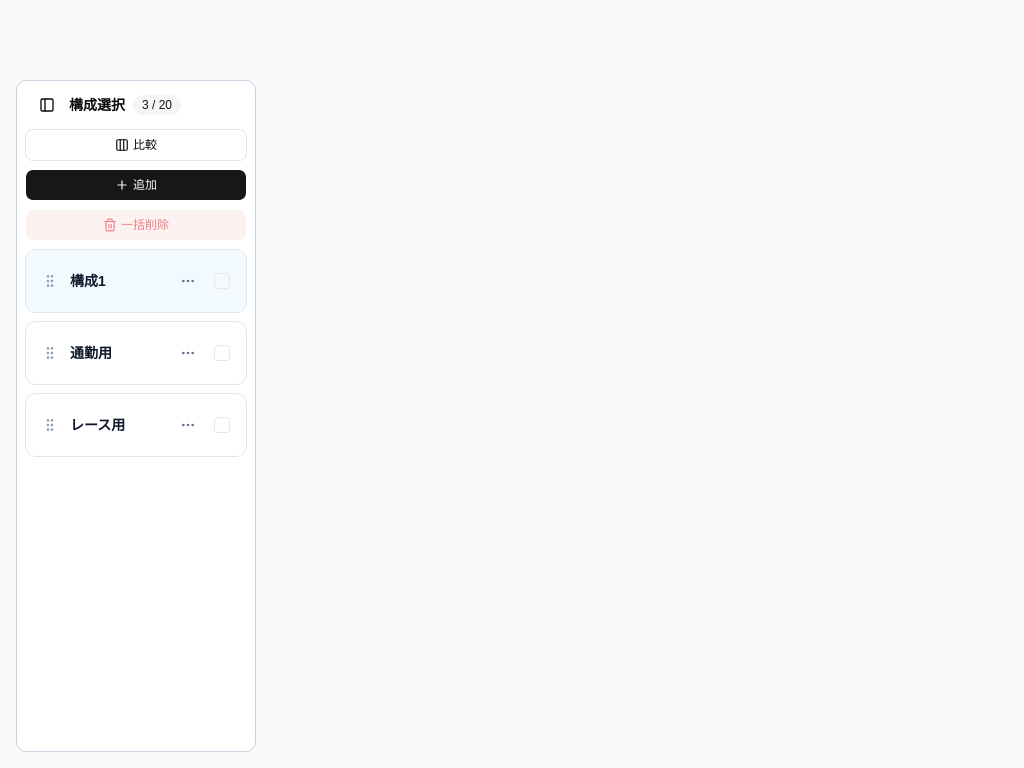
Test: ConfigList（未ログイン時） › 一括削除の確認に選択した構成名をすべて出す
The image size is (1024, 768).
Step 1. Click the checkbox named "構成1を削除対象に選択" → (222, 281), box left=214, top=273, right=230, bottom=289
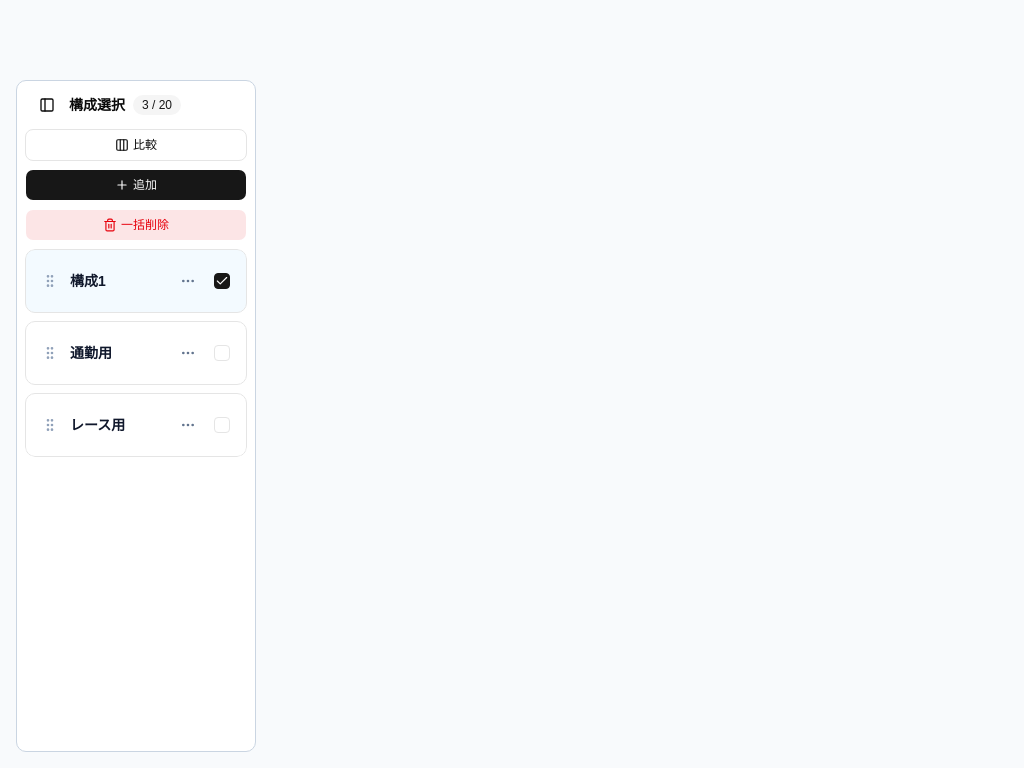
Step 2. Click the checkbox named "通勤用を削除対象に選択" → (222, 353), box left=214, top=345, right=230, bottom=361
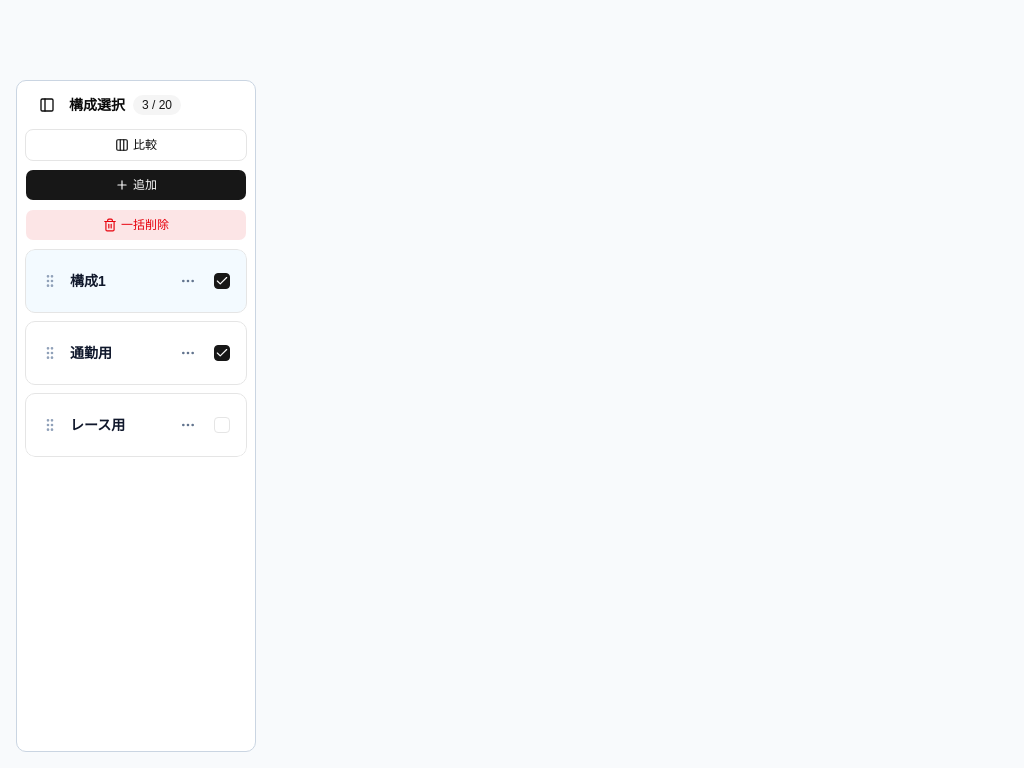
Step 3. Click the checkbox named "レース用を削除対象に選択" → (222, 425), box left=214, top=417, right=230, bottom=433
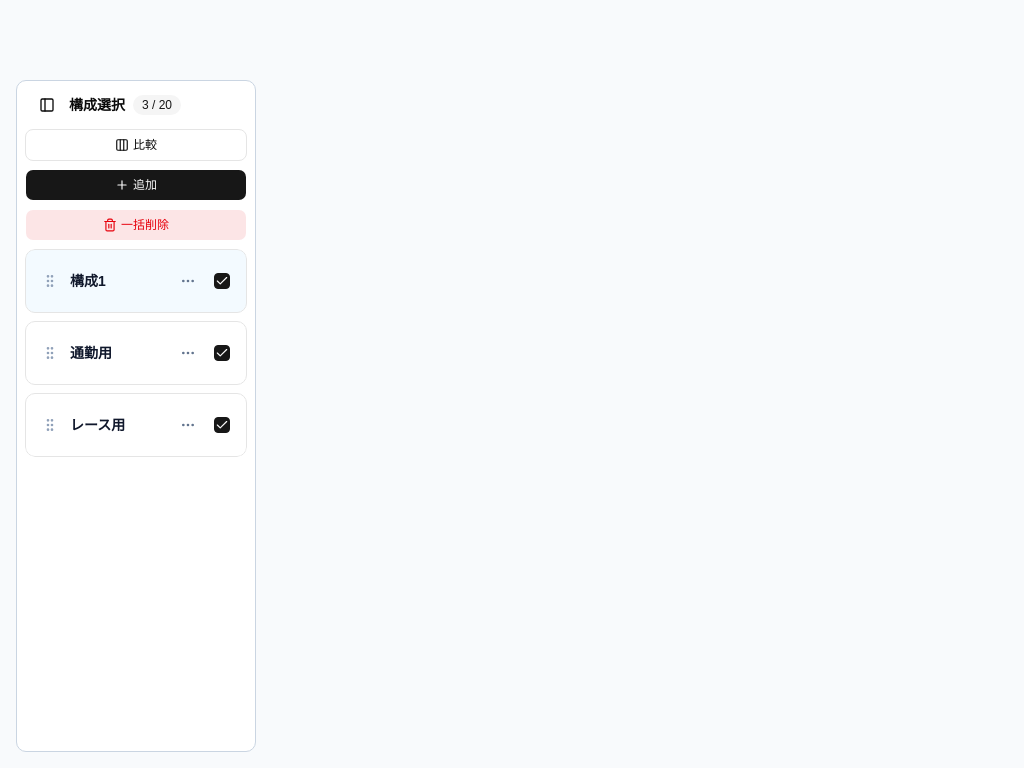
Step 4. Click the button "一括削除" → (136, 225), box left=25, top=209, right=247, bottom=241
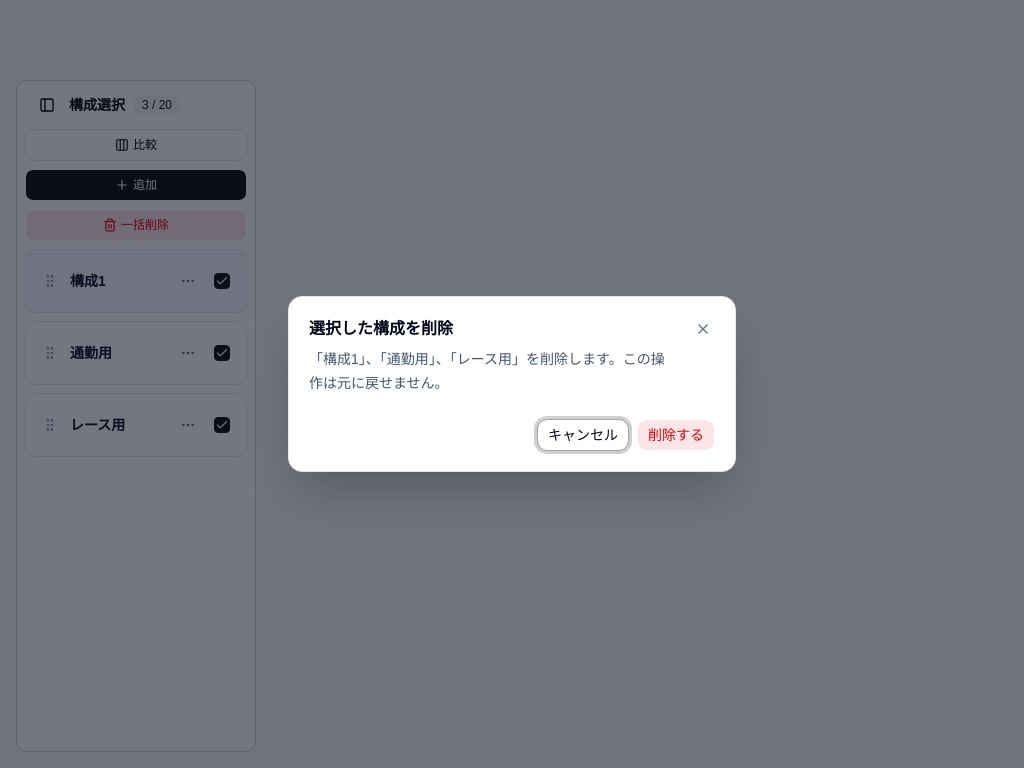
expect the text "「構成1」、「通勤用」、「レース用」を削除します。この操作は元に戻せません。" is shown: met, box left=309, top=347, right=675, bottom=395
